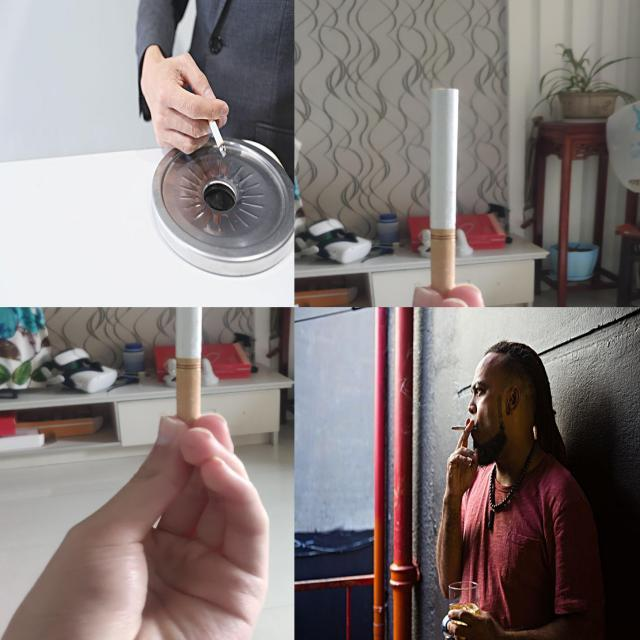cigarette: (428, 88, 461, 294), (174, 307, 206, 423), (205, 109, 228, 157), (450, 421, 477, 436)
